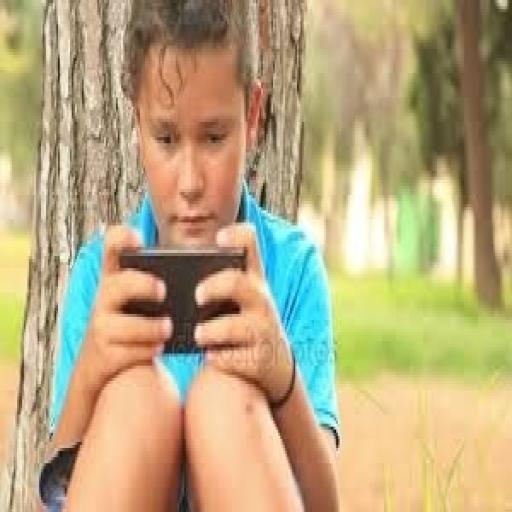texting: (38, 0, 342, 509)
